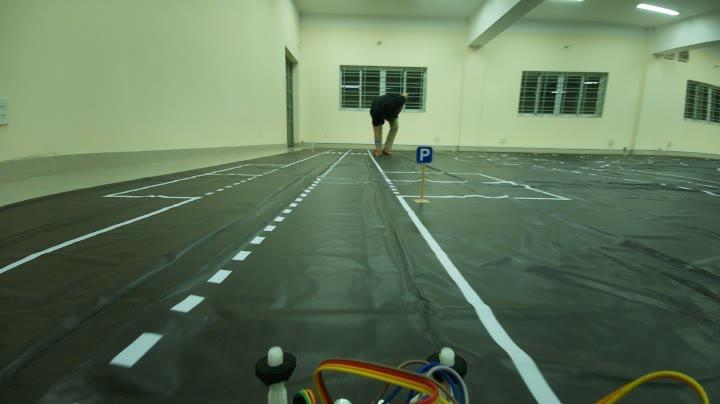parking: (415, 142, 436, 166)
